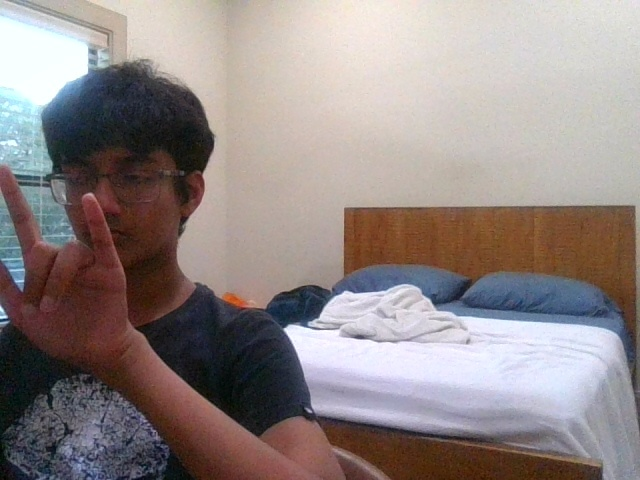ly: (1, 166, 127, 361)
